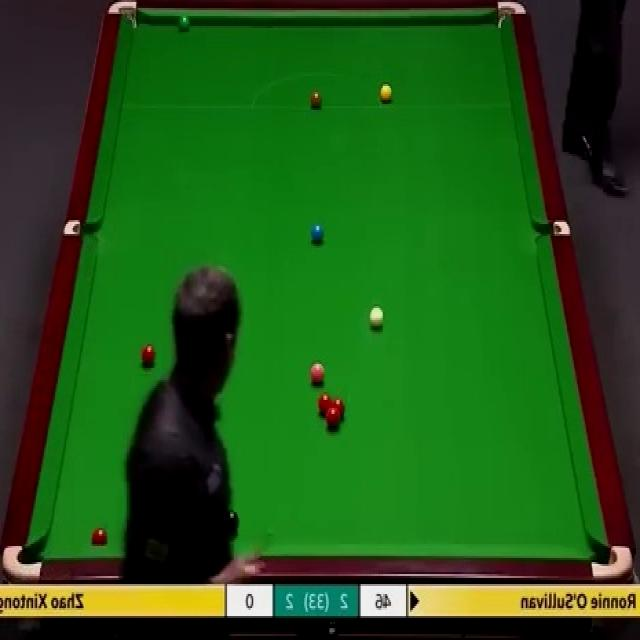black-ball: (224, 508, 238, 537)
blue-ball: (309, 224, 323, 246)
brown-ball: (310, 88, 322, 108)
green-ball: (178, 13, 192, 30)
pink-ball: (308, 361, 326, 388)
red-ball: (326, 405, 340, 433), (139, 343, 155, 367), (317, 390, 332, 413), (90, 526, 108, 545), (331, 395, 344, 418)
white-ball: (370, 306, 384, 330)
yellow-ball: (379, 85, 393, 104)
